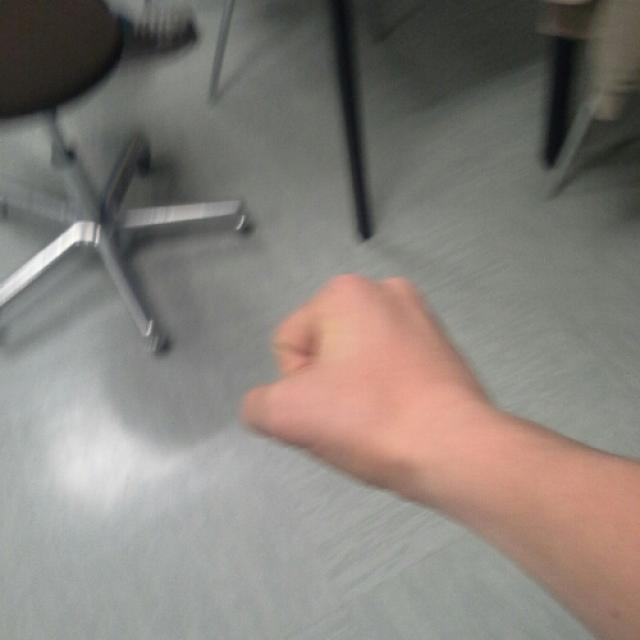rock: (244, 272, 444, 508)
